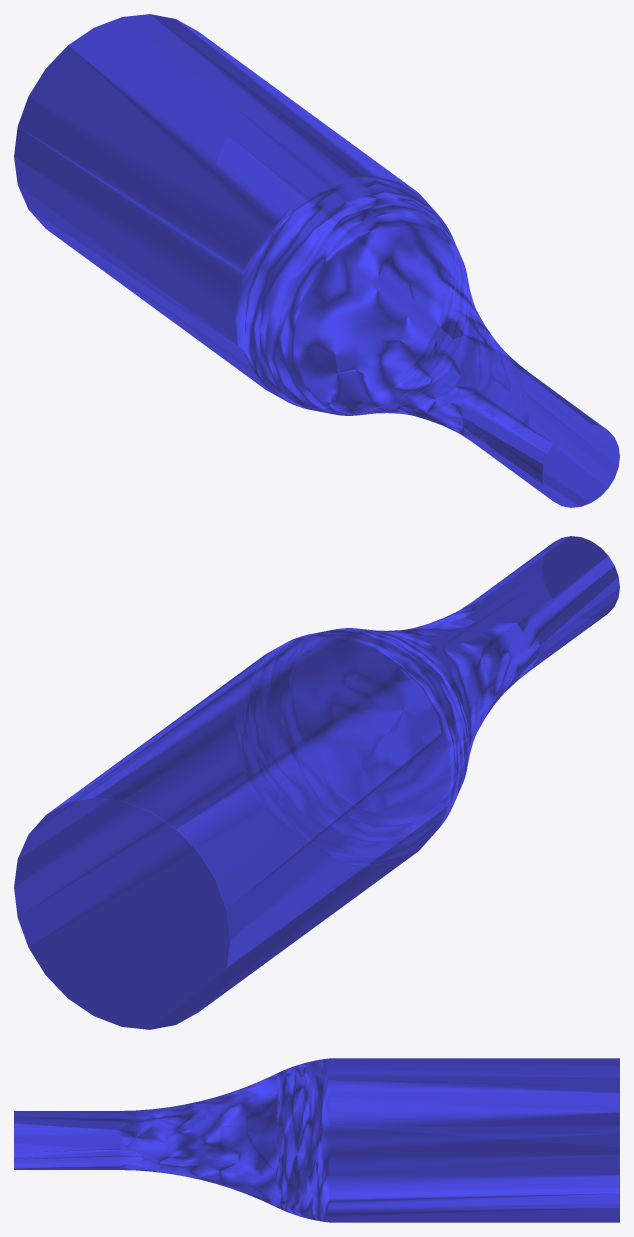
Rendered from model_align.obj.
The picture shows the model from 3 angles, top to bottom: view 1: azimuth 30°, elevation 25°; view 2: azimuth 150°, elevation 25°; view 3: azimuth 270°, elevation 25°; orthographic projection. The views are drawn at different scales.
Bounding box in the file's own units: 0.0677 × 0.0677 × 0.2491.
